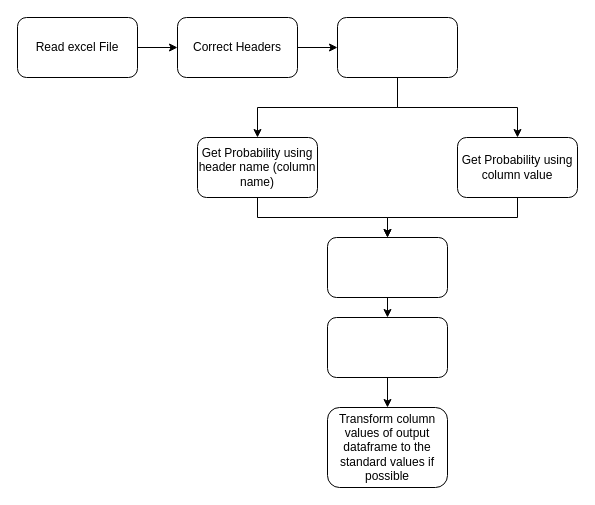
This 595x505 diagram has some shape labels left out. The shapes that lost their labels are listed below. From the top down, each one's centre as x and y in pixels, then its label:
At point 397,47: "Drop Empty Columns".
At point 387,267: "Merge probability on the basis of weightage".
At point 387,347: "Get column with highest probability and store it in our output dataframe".
